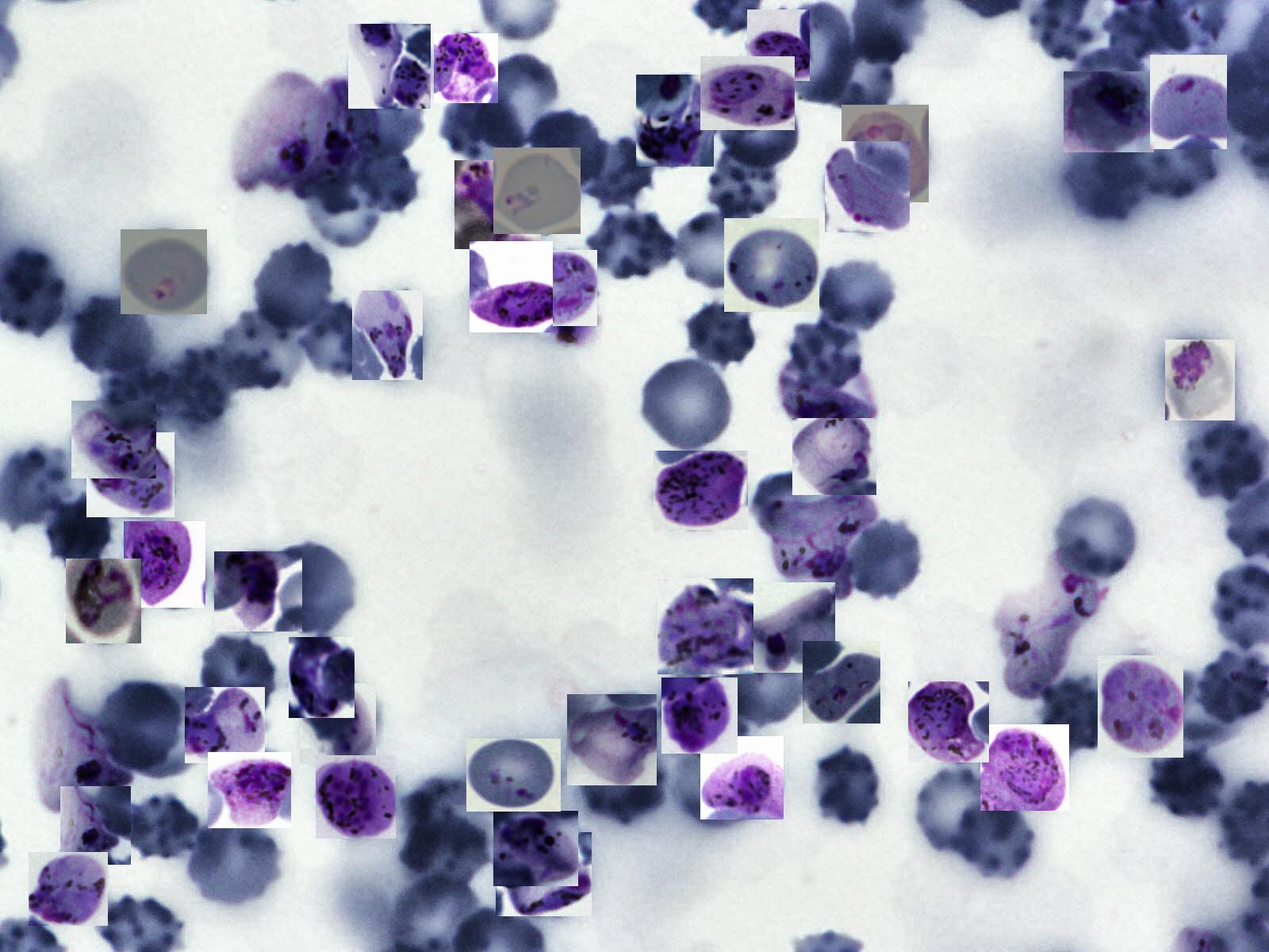Infected: (997, 555, 1105, 699), (42, 682, 132, 811), (232, 70, 328, 189), (293, 79, 382, 198), (770, 494, 882, 582), (658, 578, 753, 674), (724, 218, 819, 312), (1098, 655, 1183, 758), (842, 105, 929, 202), (745, 582, 835, 673), (567, 694, 657, 785), (496, 832, 592, 916), (454, 160, 541, 249), (980, 724, 1069, 811), (825, 141, 910, 232), (493, 148, 581, 234), (470, 241, 553, 332), (86, 432, 174, 517), (654, 451, 748, 530), (777, 355, 880, 426), (121, 229, 207, 314), (1064, 71, 1154, 152), (1150, 55, 1227, 149), (636, 75, 714, 167), (700, 736, 784, 820), (348, 24, 431, 109), (124, 521, 205, 608), (214, 551, 302, 631), (700, 56, 795, 130), (466, 739, 561, 812), (316, 755, 396, 839), (908, 681, 989, 762), (71, 401, 156, 478), (792, 418, 876, 495), (803, 641, 880, 724), (352, 290, 423, 380), (493, 811, 578, 886), (208, 752, 291, 828), (66, 559, 141, 643), (301, 683, 377, 764), (517, 250, 597, 326), (185, 687, 265, 763), (661, 678, 738, 754), (29, 852, 108, 926), (60, 786, 131, 865), (1165, 340, 1235, 420), (289, 637, 355, 718), (434, 33, 498, 103), (748, 10, 811, 81)
Uninfected: (718, 634, 814, 731), (263, 541, 359, 637), (185, 813, 280, 906), (669, 205, 765, 294), (250, 239, 337, 336), (641, 358, 731, 450), (473, 55, 557, 153), (576, 742, 667, 830), (64, 295, 156, 379), (916, 769, 1005, 855), (953, 789, 1035, 879), (1177, 420, 1267, 502), (127, 685, 205, 776), (344, 67, 421, 158), (784, 0, 852, 103), (102, 678, 178, 770), (844, 519, 926, 603), (811, 258, 899, 336), (401, 776, 490, 852), (401, 815, 492, 889), (1065, 137, 1145, 221), (1053, 497, 1135, 578), (197, 636, 277, 719), (719, 86, 799, 168), (1144, 746, 1229, 823), (439, 88, 524, 164), (809, 745, 884, 831), (585, 212, 679, 280), (1132, 122, 1217, 197), (224, 310, 304, 389), (828, 33, 894, 124), (683, 298, 762, 373), (534, 110, 601, 193), (163, 343, 226, 431), (711, 153, 788, 223), (305, 177, 380, 248), (299, 304, 375, 374), (584, 137, 657, 208), (791, 317, 864, 387), (352, 144, 422, 215), (126, 796, 200, 863), (48, 492, 113, 566), (1043, 678, 1106, 752)
